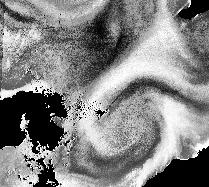CE: (83, 66, 185, 159)
